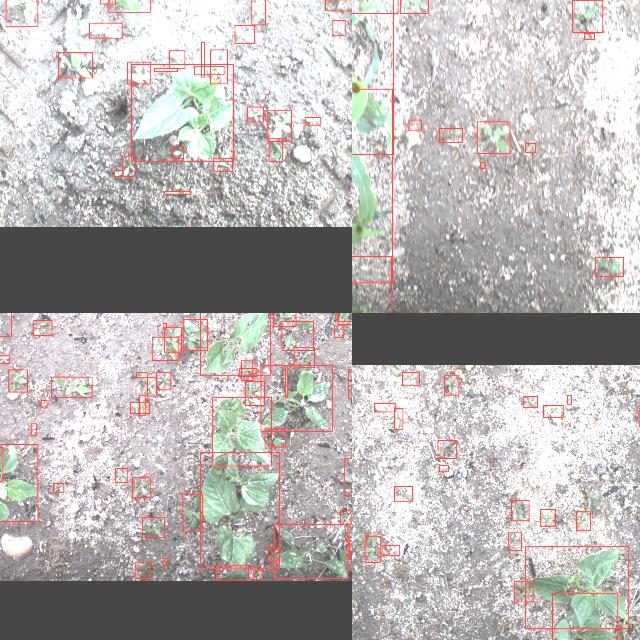crop: (131, 64, 233, 160), (200, 452, 280, 568), (526, 546, 628, 628), (352, 88, 393, 282), (352, 0, 393, 154), (200, 313, 270, 375), (212, 396, 272, 466), (552, 592, 618, 640), (352, 256, 391, 313), (352, 0, 398, 12), (217, 566, 249, 580)
weed: (260, 365, 332, 431), (274, 524, 348, 578), (0, 443, 38, 520), (476, 121, 509, 153), (282, 320, 314, 350), (573, 0, 603, 31), (58, 52, 92, 78), (52, 377, 92, 398), (6, 0, 38, 26), (182, 318, 208, 349), (182, 494, 202, 532), (268, 110, 292, 140), (152, 336, 178, 360), (210, 49, 228, 83), (90, 22, 122, 38), (595, 258, 623, 276), (128, 61, 150, 83), (164, 326, 182, 352), (109, 0, 151, 11), (8, 369, 28, 391), (142, 517, 164, 537), (246, 381, 264, 405), (364, 536, 380, 562), (235, 24, 255, 44), (294, 347, 314, 367), (514, 581, 534, 601), (264, 428, 286, 446), (400, 0, 428, 13), (132, 477, 150, 497), (511, 500, 529, 520), (438, 440, 457, 458), (252, 0, 266, 24), (439, 128, 463, 142), (344, 458, 352, 495), (246, 106, 264, 122), (270, 138, 282, 162), (169, 50, 185, 68), (156, 371, 172, 389), (540, 508, 556, 526), (122, 156, 136, 176), (576, 510, 590, 530), (444, 374, 458, 394), (273, 313, 296, 325), (325, 0, 352, 10), (34, 320, 52, 334), (394, 486, 412, 500), (508, 532, 522, 550), (194, 66, 224, 74), (543, 404, 563, 416), (214, 157, 232, 170), (136, 562, 150, 578), (374, 402, 396, 412), (402, 372, 420, 384), (130, 402, 150, 412), (242, 360, 252, 380), (394, 408, 404, 428), (333, 19, 345, 35), (382, 545, 400, 555), (115, 468, 127, 482), (148, 376, 156, 396), (522, 396, 538, 406), (341, 510, 352, 524), (338, 313, 352, 324), (172, 146, 184, 158), (304, 117, 320, 125), (240, 368, 256, 376), (409, 120, 421, 130), (140, 395, 146, 415), (268, 548, 278, 560), (334, 325, 344, 337), (54, 482, 64, 492), (154, 67, 178, 71), (525, 144, 535, 152), (254, 570, 262, 580), (0, 355, 9, 363), (439, 464, 448, 472), (202, 42, 204, 76), (285, 364, 287, 398), (349, 537, 352, 559), (584, 32, 594, 38), (31, 424, 37, 434), (566, 394, 572, 404), (164, 192, 190, 194), (114, 170, 122, 176), (41, 399, 47, 407), (136, 372, 148, 376), (100, 0, 115, 3), (480, 162, 486, 168), (162, 558, 168, 564), (162, 323, 165, 329)
